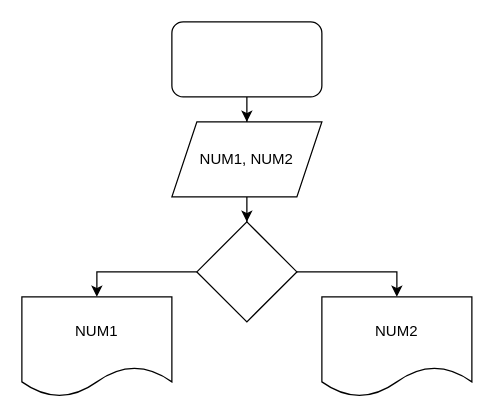
Image size: 494x419. Some labels were removed from this diagram. The shapes that lost their labels are listed below. From the top down, each one's box as (x1, y1, x2, y2) in pixels, then its label:
(171, 21, 322, 97): INICIO
(196, 221, 297, 322): NUM1 > NUM2 ?
